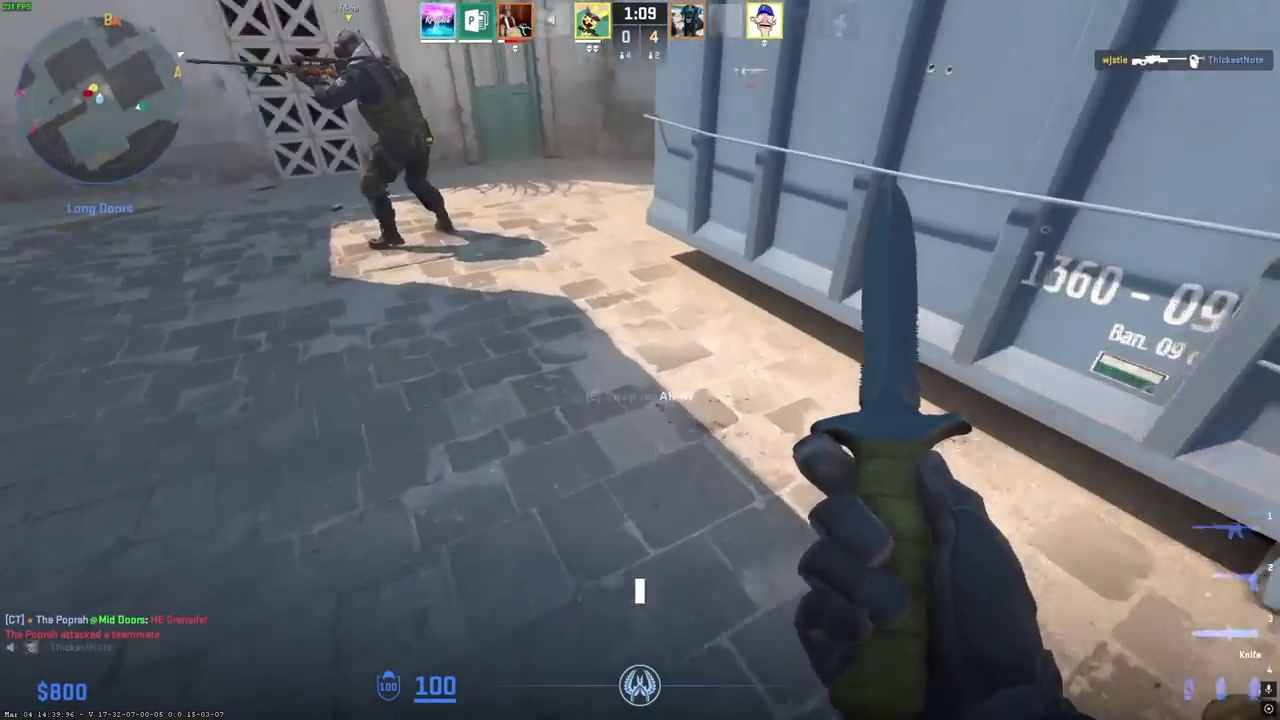CT: (329, 28, 445, 249)
